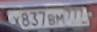license-plateSW: (6, 6, 90, 30)
